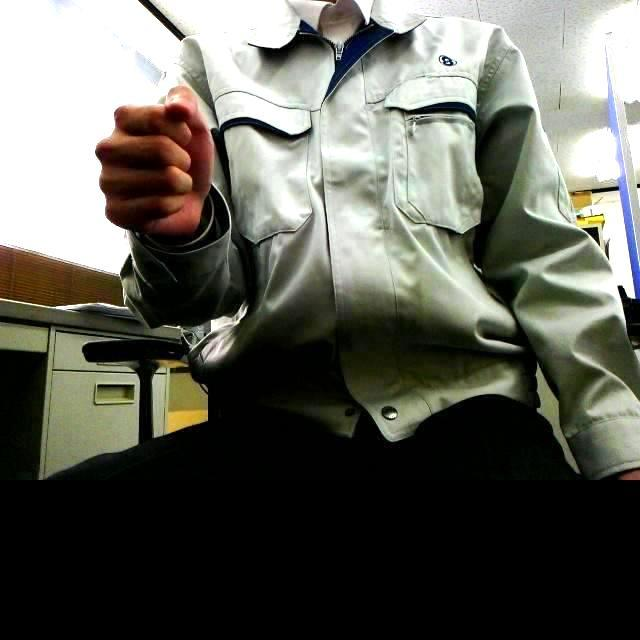gu-: (96, 84, 212, 232)
